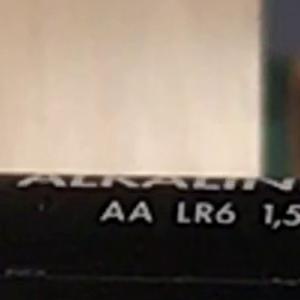LR6: (168, 194, 245, 232)
